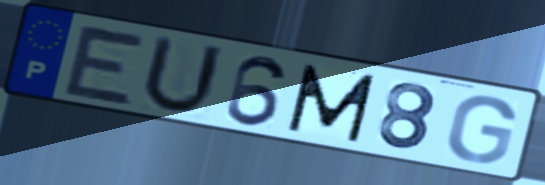6: (224, 53, 289, 128)
8: (376, 82, 437, 152)
E: (59, 20, 151, 109)
G: (443, 94, 519, 166)
M: (284, 61, 380, 145)
U: (137, 32, 228, 117)
